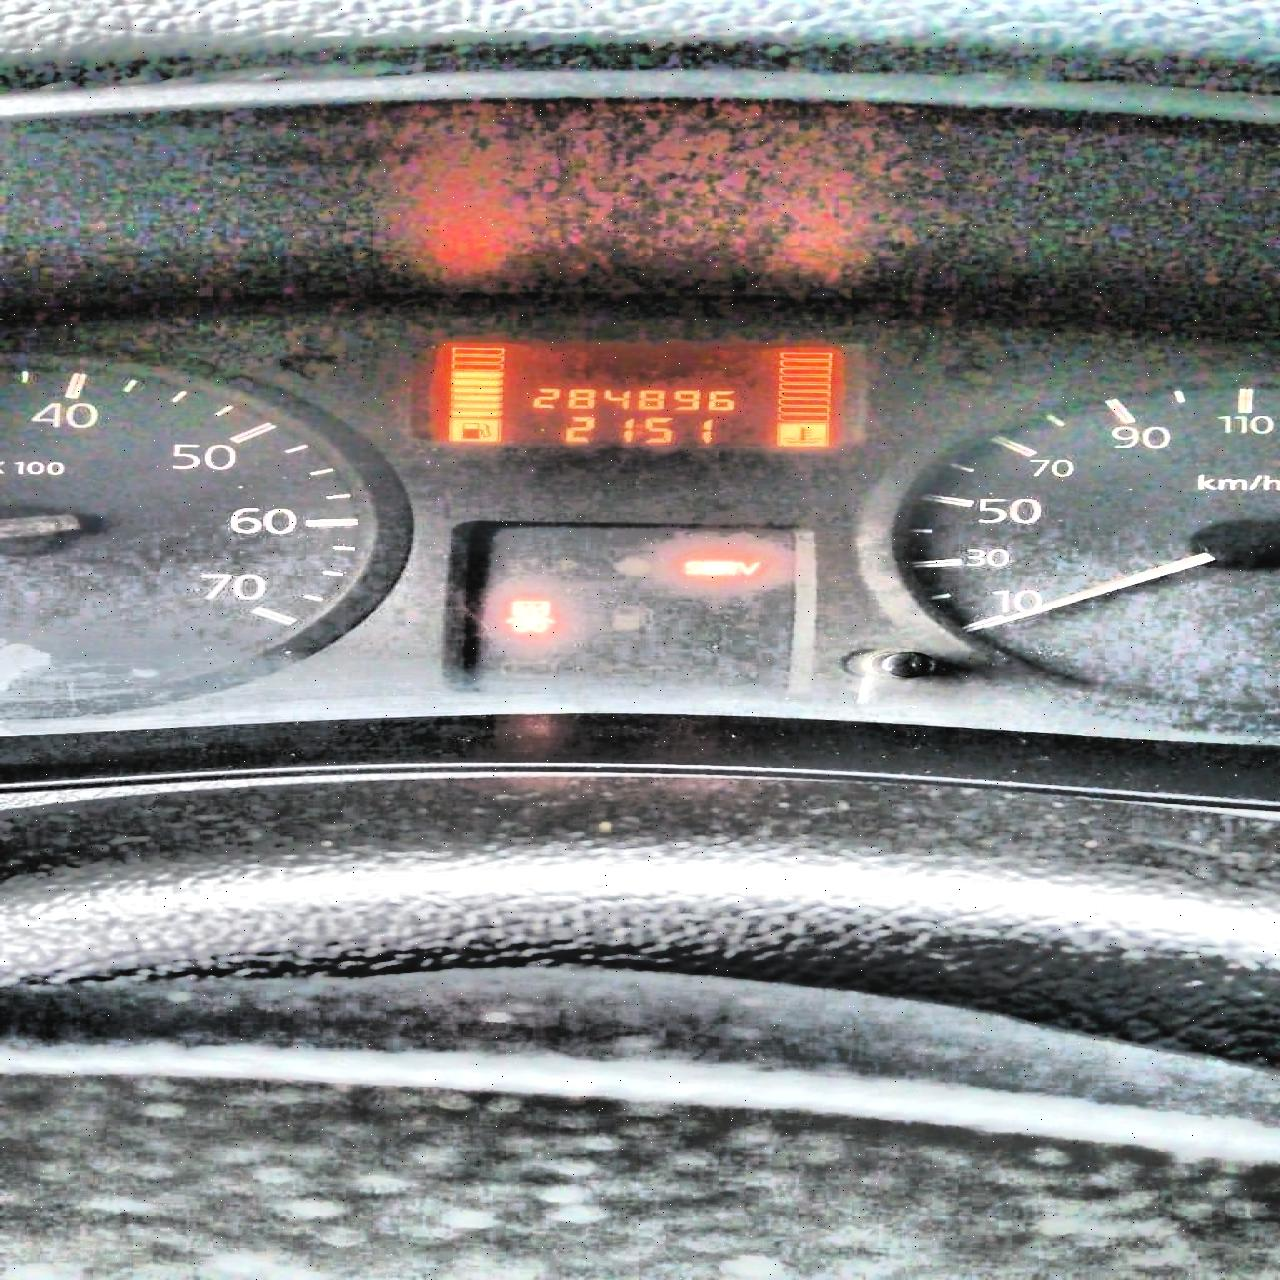1: (697, 418, 713, 443), (621, 417, 634, 442)
2: (563, 415, 594, 442), (530, 387, 559, 408)
4: (601, 388, 629, 409)
5: (642, 416, 673, 442)
6: (706, 389, 735, 410)
8: (564, 388, 595, 409), (636, 388, 666, 409)
9: (670, 389, 701, 409)
X: (634, 423, 641, 435)
odometer: (403, 334, 865, 452)
